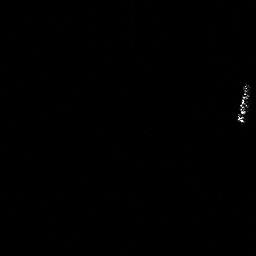ship: (235, 83, 250, 123)
